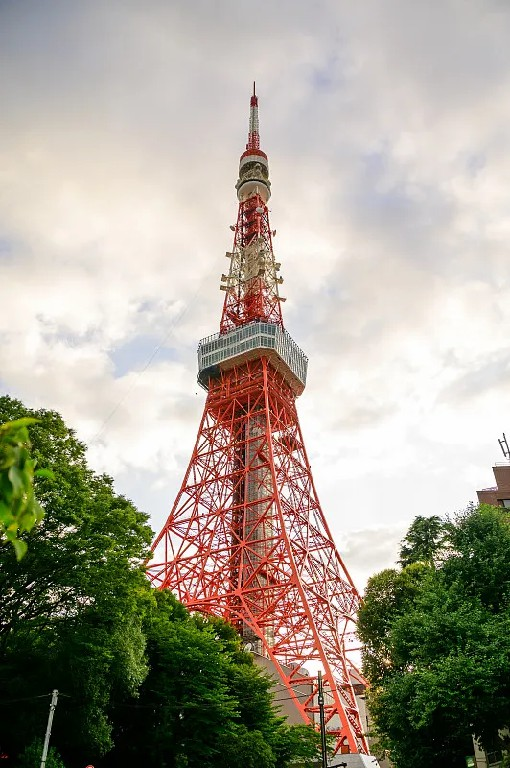Tokyo: (141, 70, 380, 763)
